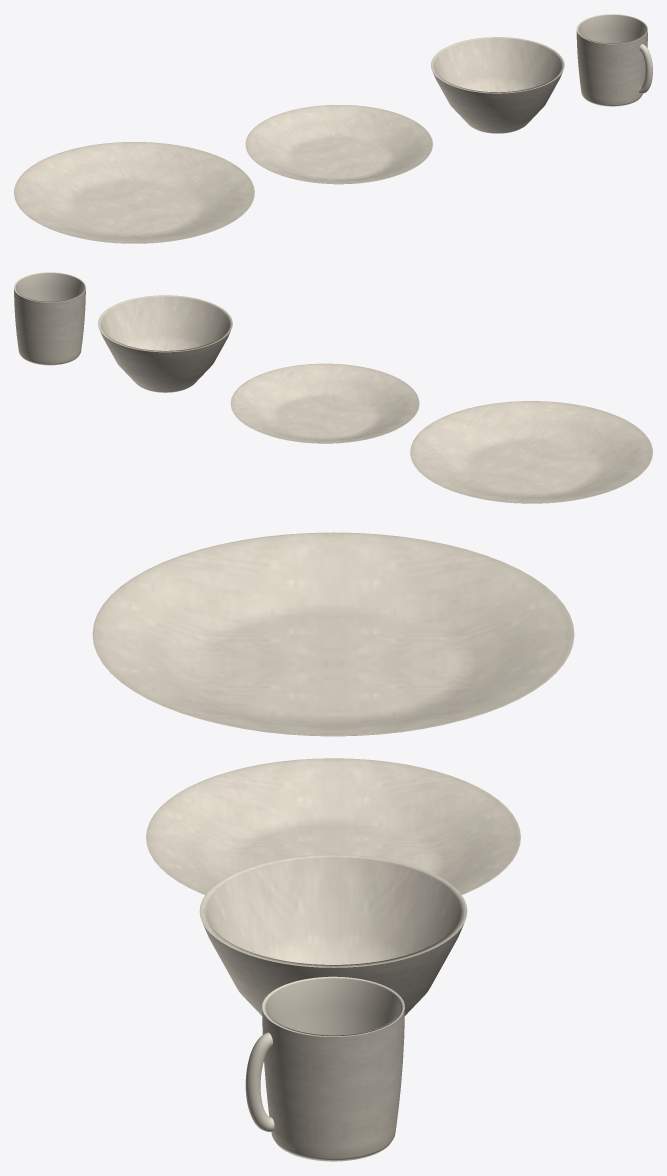
Rendered from EST-02.glb.
3 views of the same model, one above another, from view 1: azimuth 30°, elevation 25°; view 2: azimuth 150°, elevation 25°; view 3: azimuth 270°, elevation 25° (orthographic). The views are drawn at different scales.
Size of the model in its own units: 0.7932 by 0.08 by 0.27.
9 materials, 7 textured.
